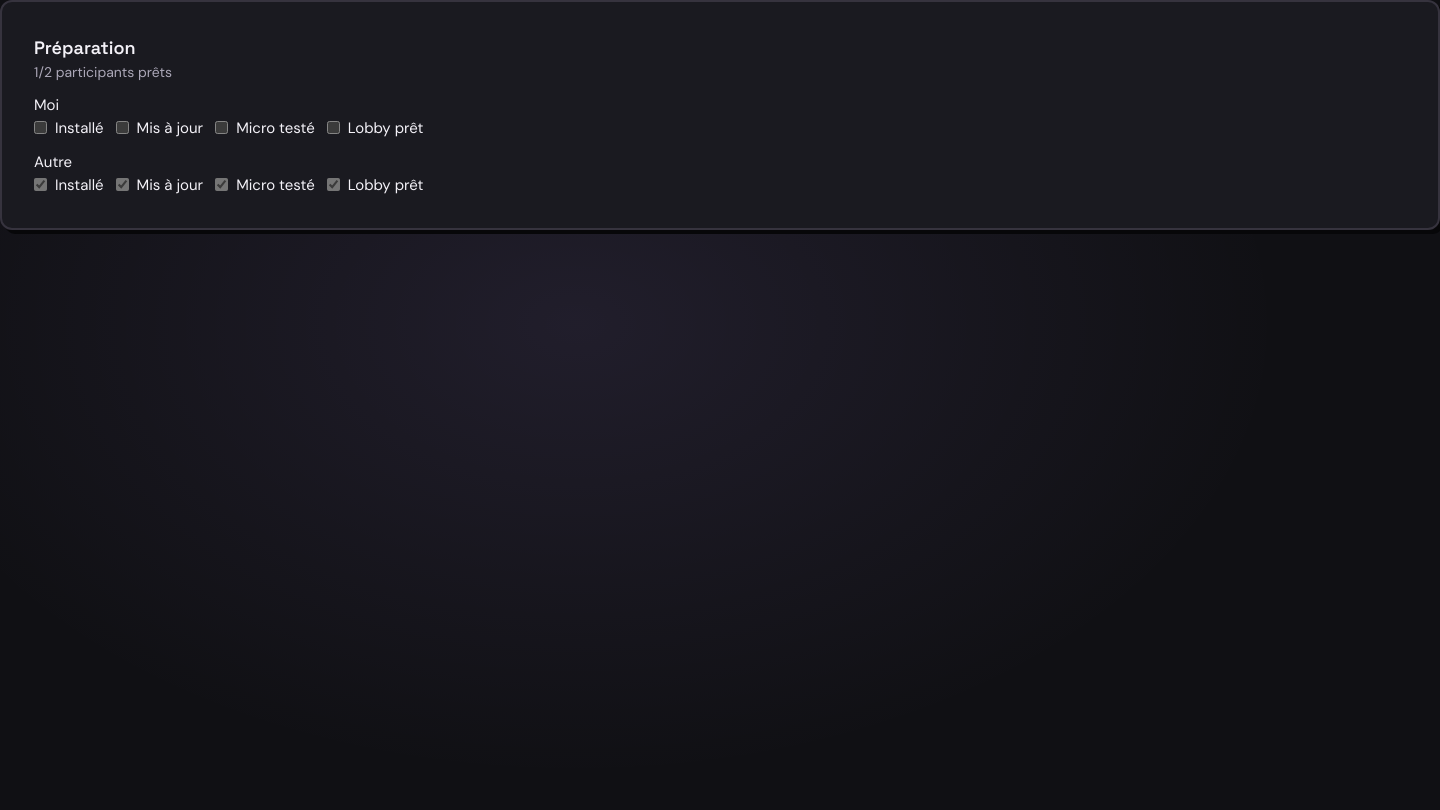
Scenario: signale un échec sans afficher une réussite optimiste
Click the checkbox labelled "Installé" below "Moi" at (40, 128), box [34,121,47,134]
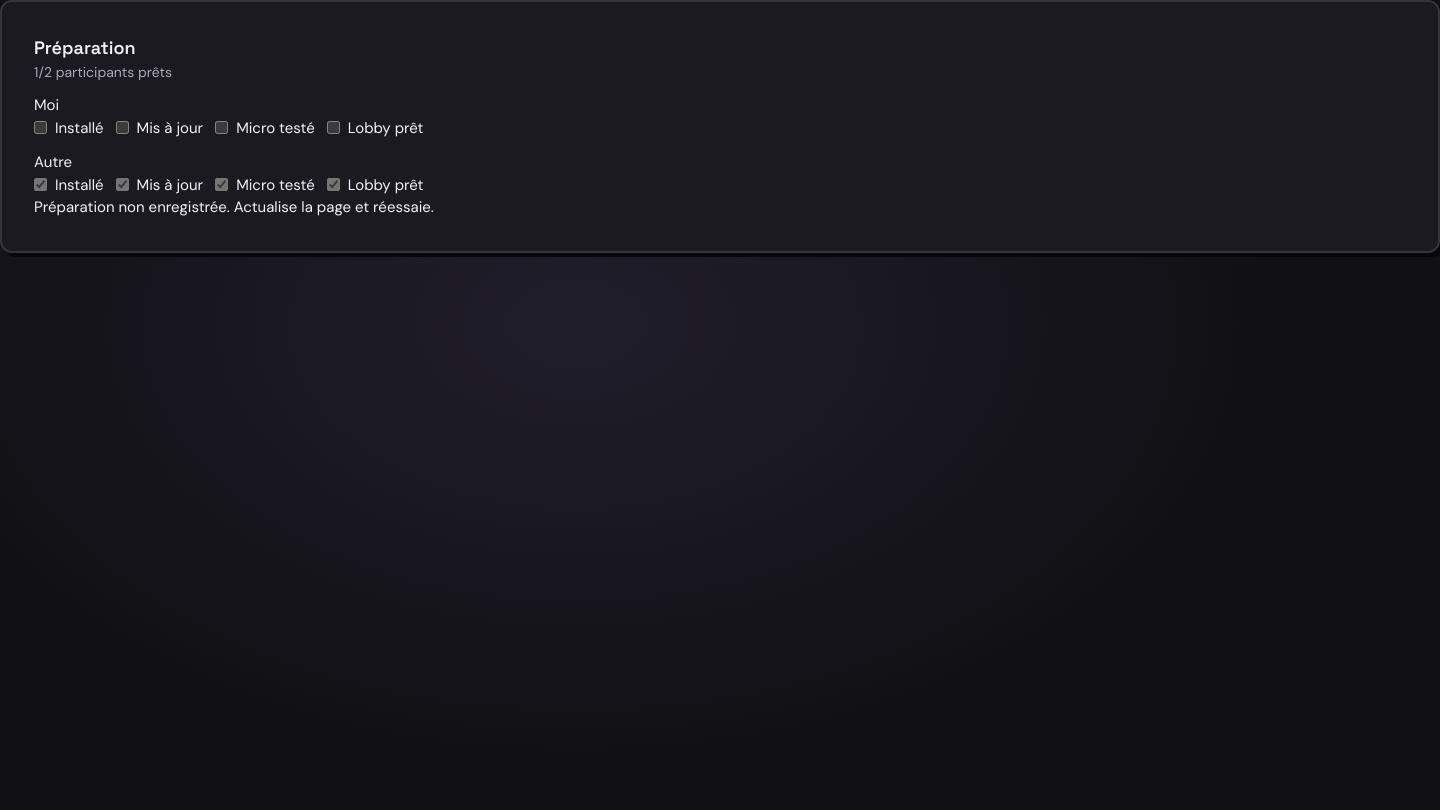
Check: the message "Préparation non enregistrée. Actualise la page et réessaie." is shown, box [34,197,434,217]
